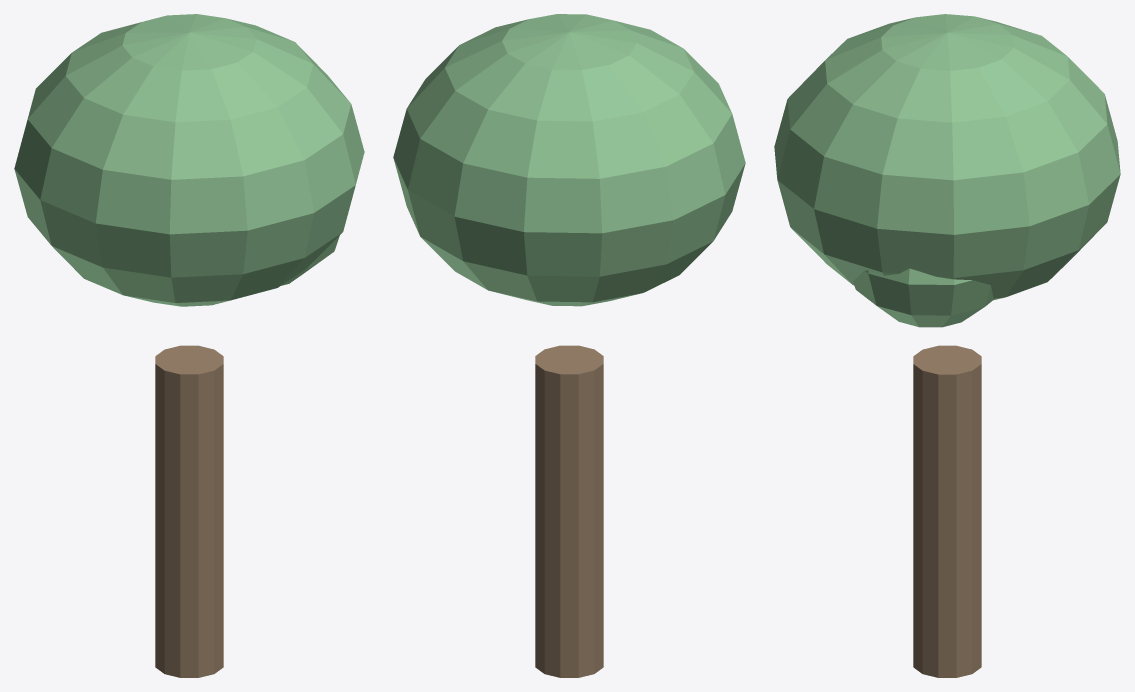
The model's file is tree_landmark_01.glb.
3 renders of one model, left to right at view 1: azimuth 30°, elevation 25°; view 2: azimuth 150°, elevation 25°; view 3: azimuth 270°, elevation 25°, orthographic.
Visible parts, largest first — view 1: ENV_tree_landmark_01_Canopy, ENV_tree_landmark_01; view 2: ENV_tree_landmark_01_Canopy, ENV_tree_landmark_01; view 3: ENV_tree_landmark_01_Canopy, ENV_tree_landmark_01, ENV_tree_landmark_01_CanopyB.
Part boxes in pixels (<box>): ENV_tree_landmark_01_Canopy: <box>14,14,364,306</box>; ENV_tree_landmark_01: <box>155,345,223,677</box>; ENV_tree_landmark_01_Canopy: <box>393,14,745,306</box>; ENV_tree_landmark_01: <box>535,345,603,677</box>; ENV_tree_landmark_01_Canopy: <box>774,14,1120,300</box>; ENV_tree_landmark_01: <box>913,345,981,677</box>; ENV_tree_landmark_01_CanopyB: <box>853,268,994,327</box>.
Size of the model in its own units: 2 by 3.95 by 1.97.
